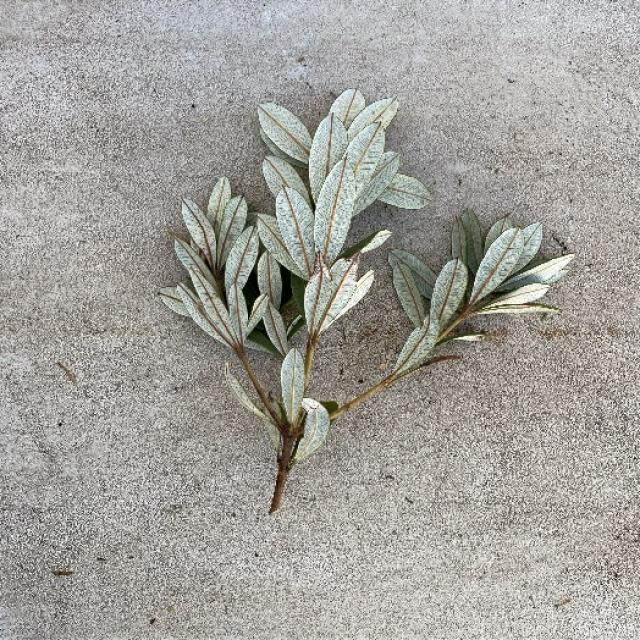organik: (194, 102, 542, 480)
